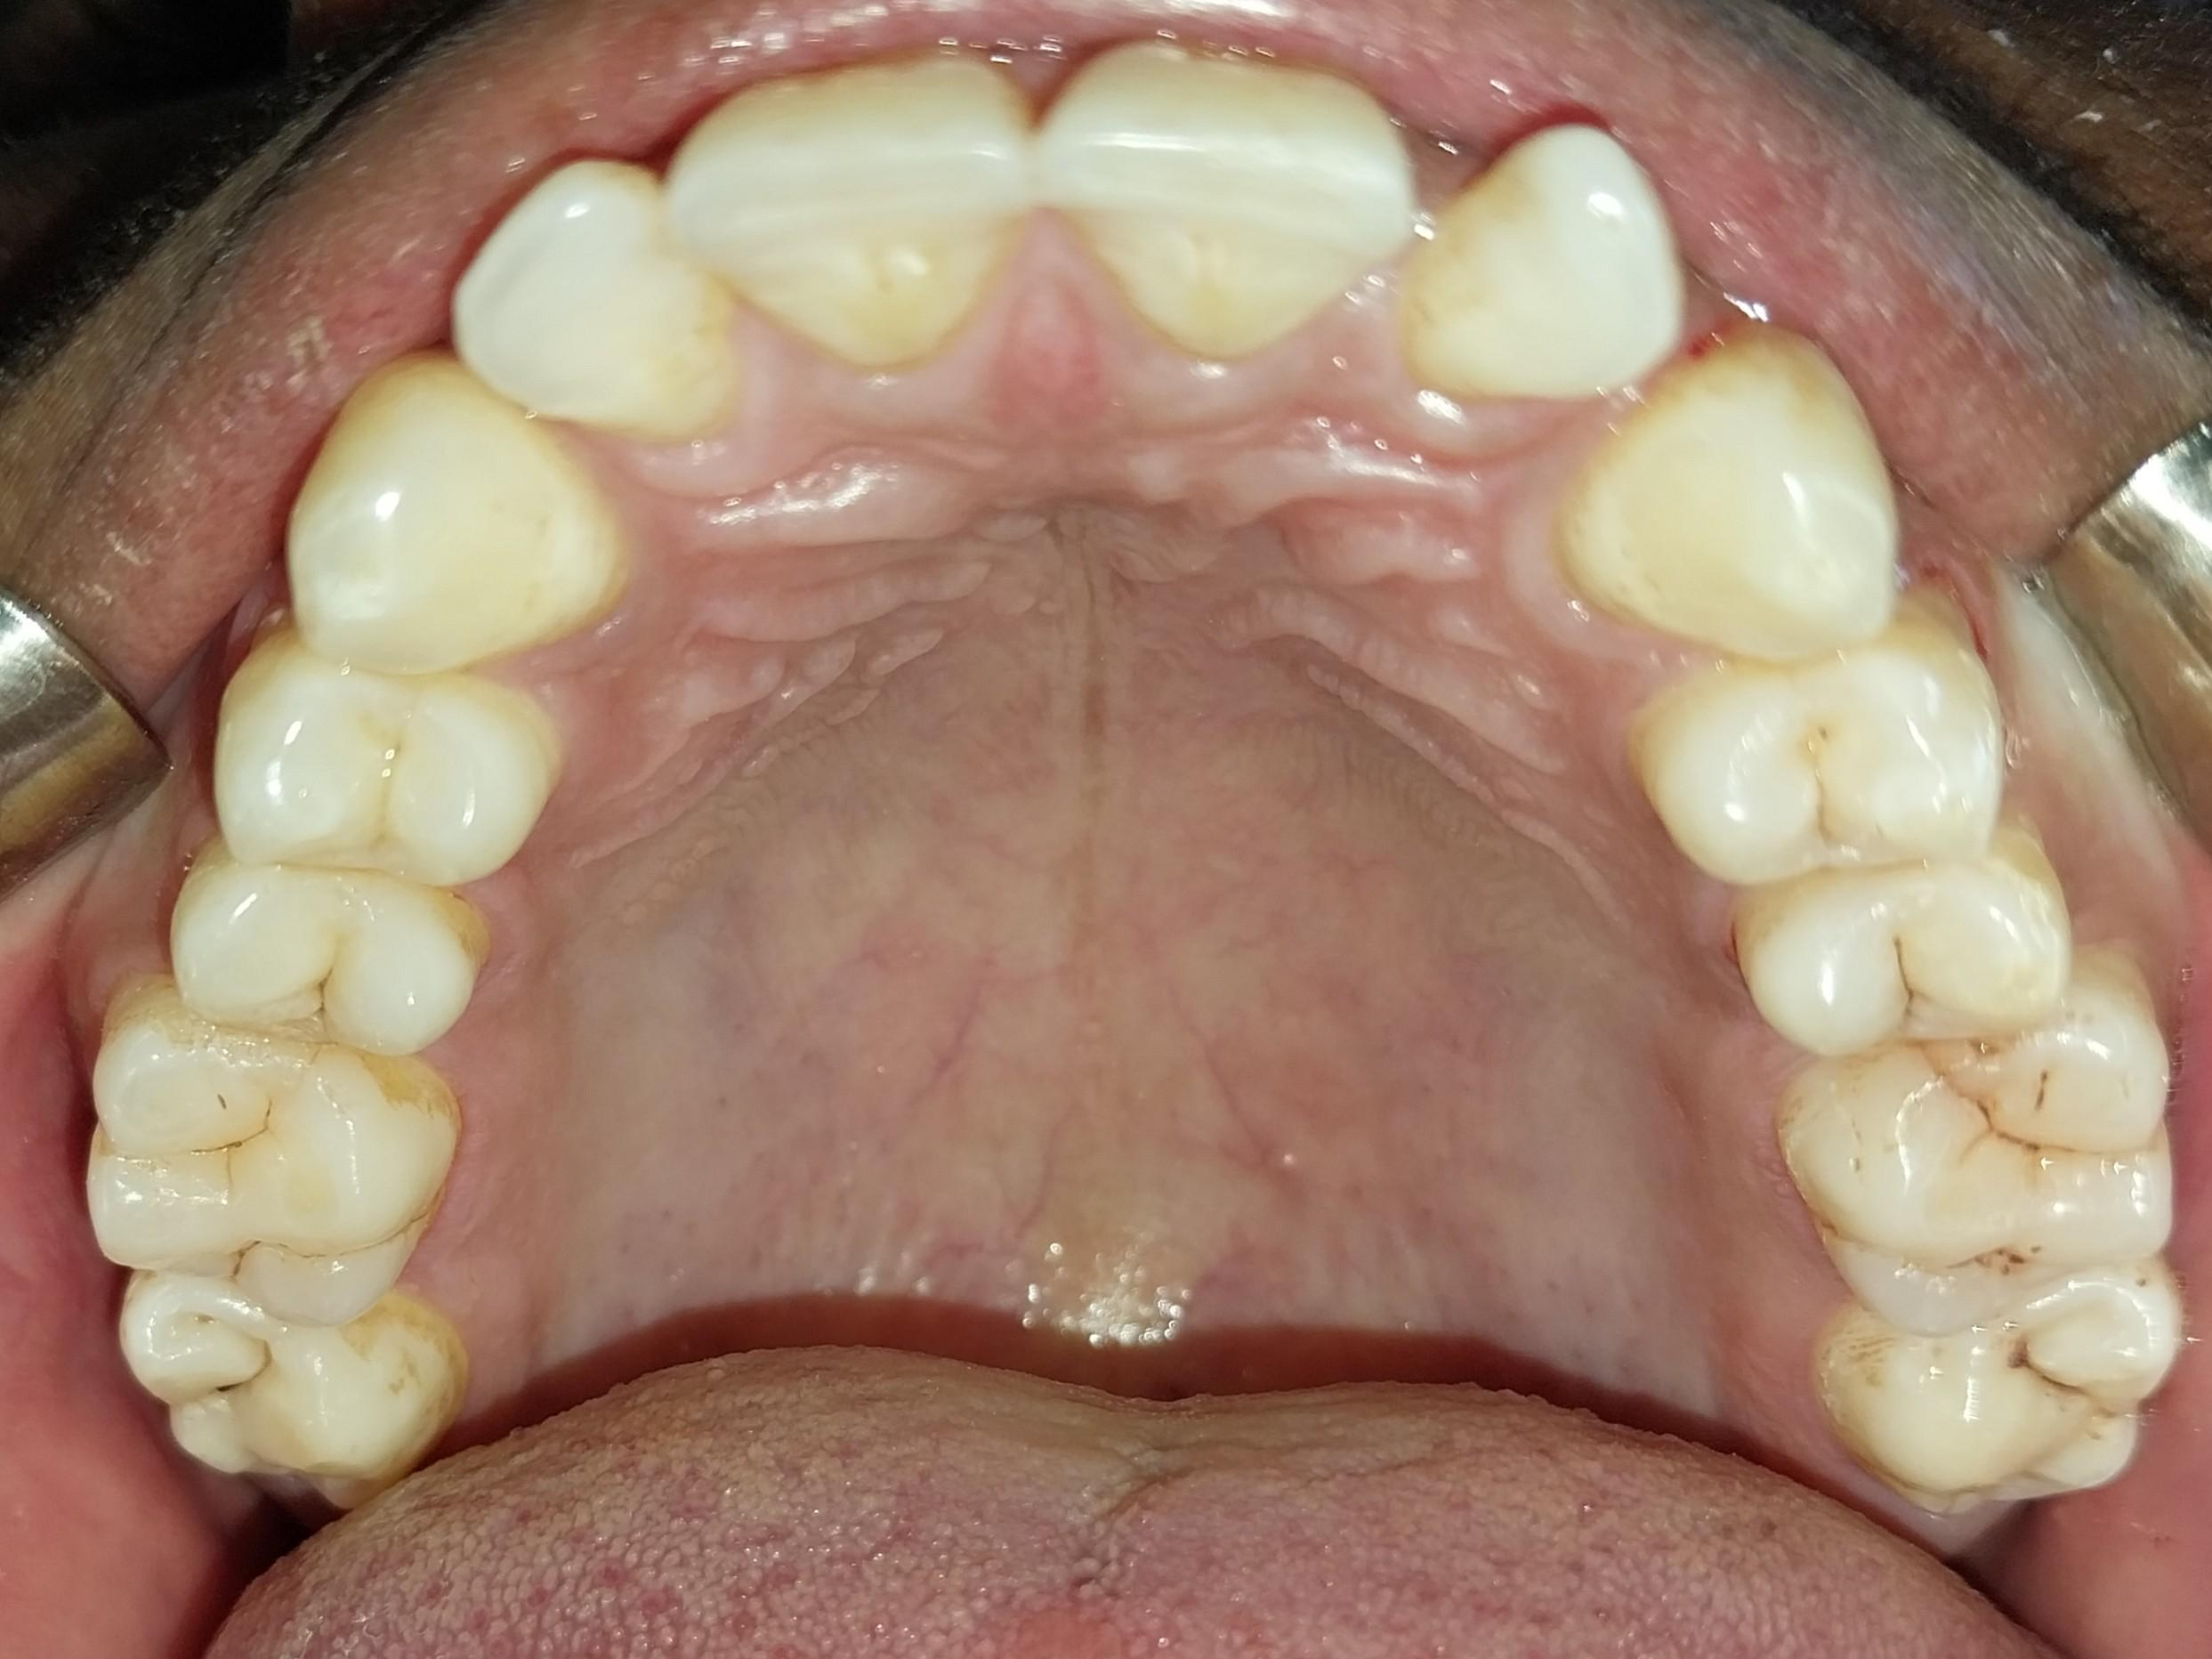D: (1815, 1271, 2181, 1552), (119, 1273, 465, 1515), (1731, 844, 2071, 1057), (173, 848, 487, 1052)
